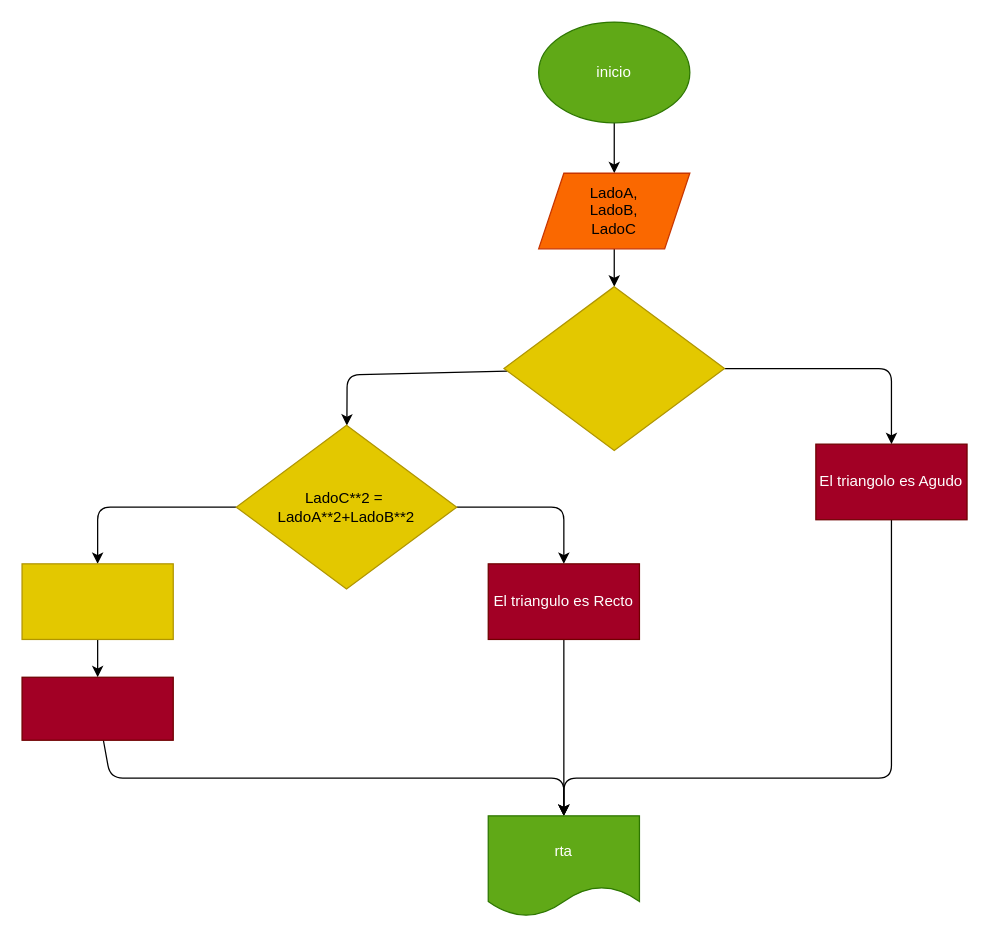
The diagram is 989 pixels wide and 939 high, and some of its shapes have lost their labels. The shapes that lost their labels are listed below. From the top down, each one's box as (x1, y1, x2, y2) in pixels, then its label:
(503, 285, 724, 450): LadoC**2 < LadoA**2+LadoB**2
(21, 563, 173, 639): LadoC**2 > LadoA**2+LadoB**2
(21, 676, 173, 740): El triangulo es Obtuso
